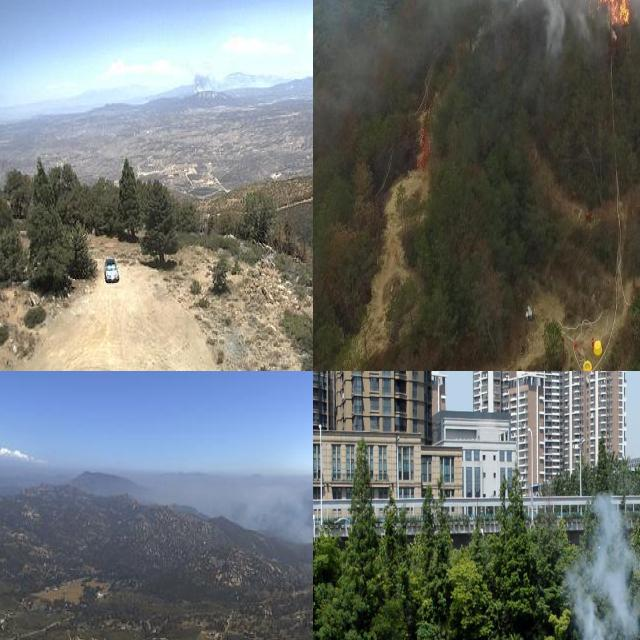fire: (537, 0, 640, 56)
smoke: (313, 0, 640, 129), (553, 492, 640, 640), (217, 455, 313, 552), (188, 70, 221, 99)
